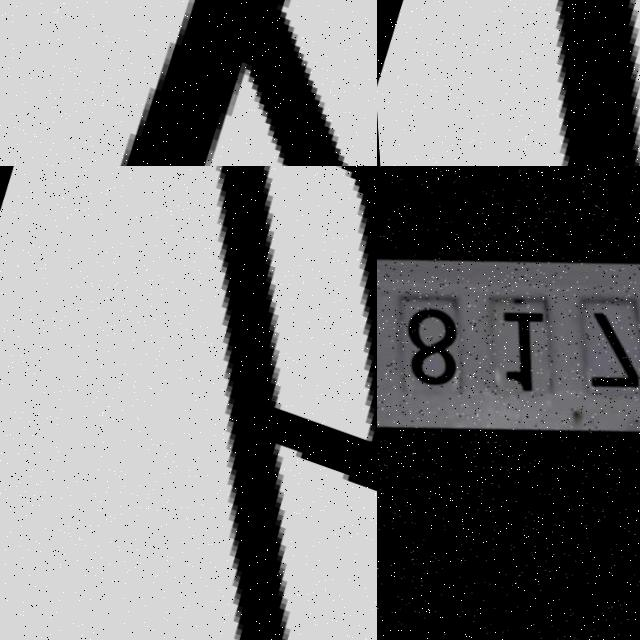1: (448, 286, 574, 422)
7: (543, 287, 640, 418)
8: (377, 282, 487, 416)
B: (216, 166, 377, 640)
X: (0, 0, 377, 166)
